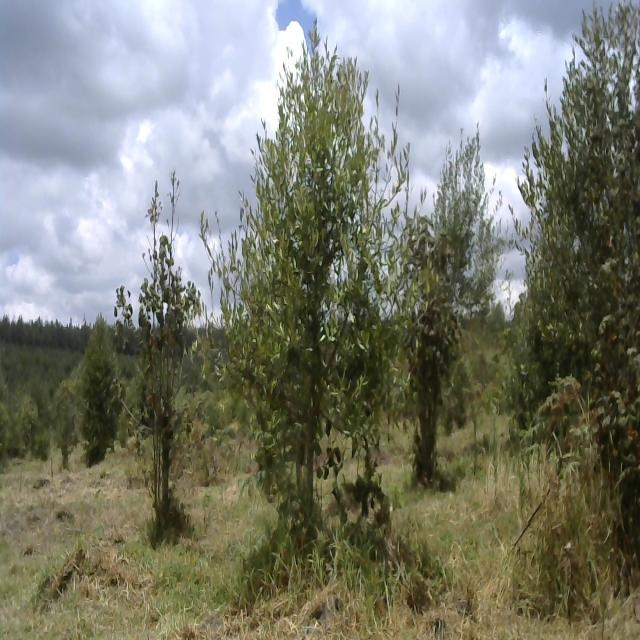Croton machrostychus: (115, 201, 209, 524)
Juniperus procesera: (75, 308, 128, 458)
Olea europea -africana-: (209, 24, 413, 524), (513, 0, 640, 507)
